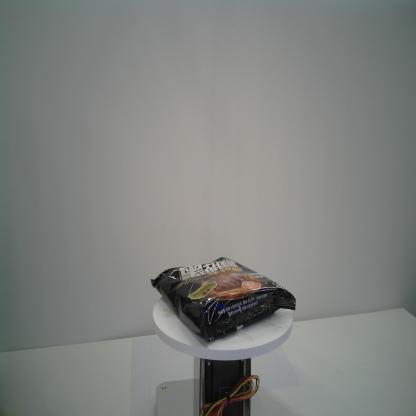Instant Noodles: (151, 256, 297, 343)
